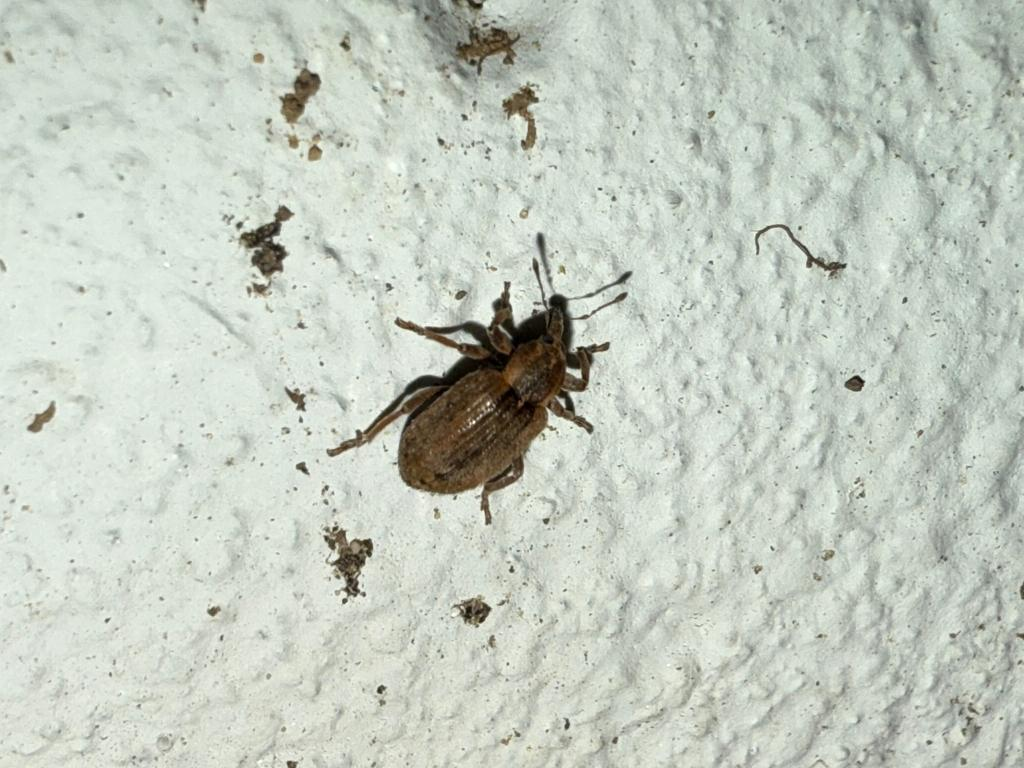weevils: (286, 207, 678, 573)
